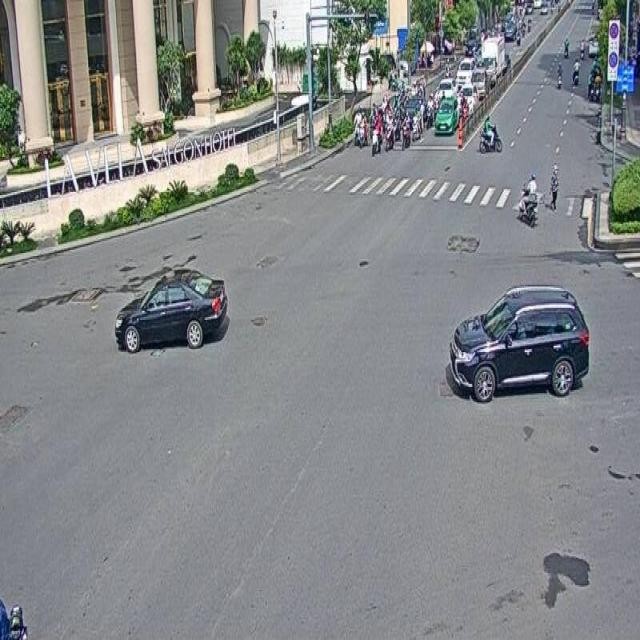car: (444, 286, 585, 404), (115, 266, 230, 354)
motorcycle: (518, 169, 538, 230), (478, 113, 500, 154)
